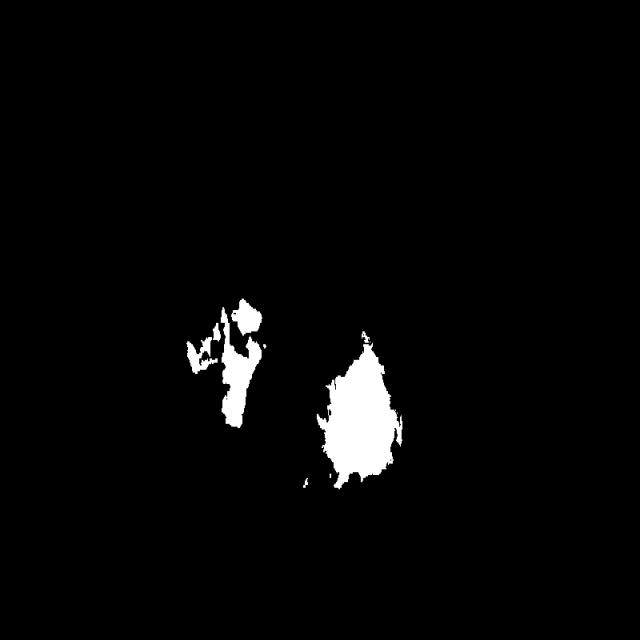fire: (170, 311, 293, 458)
